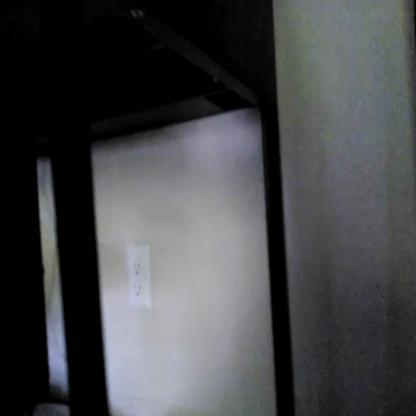OUTLET: (126, 242, 150, 306)
